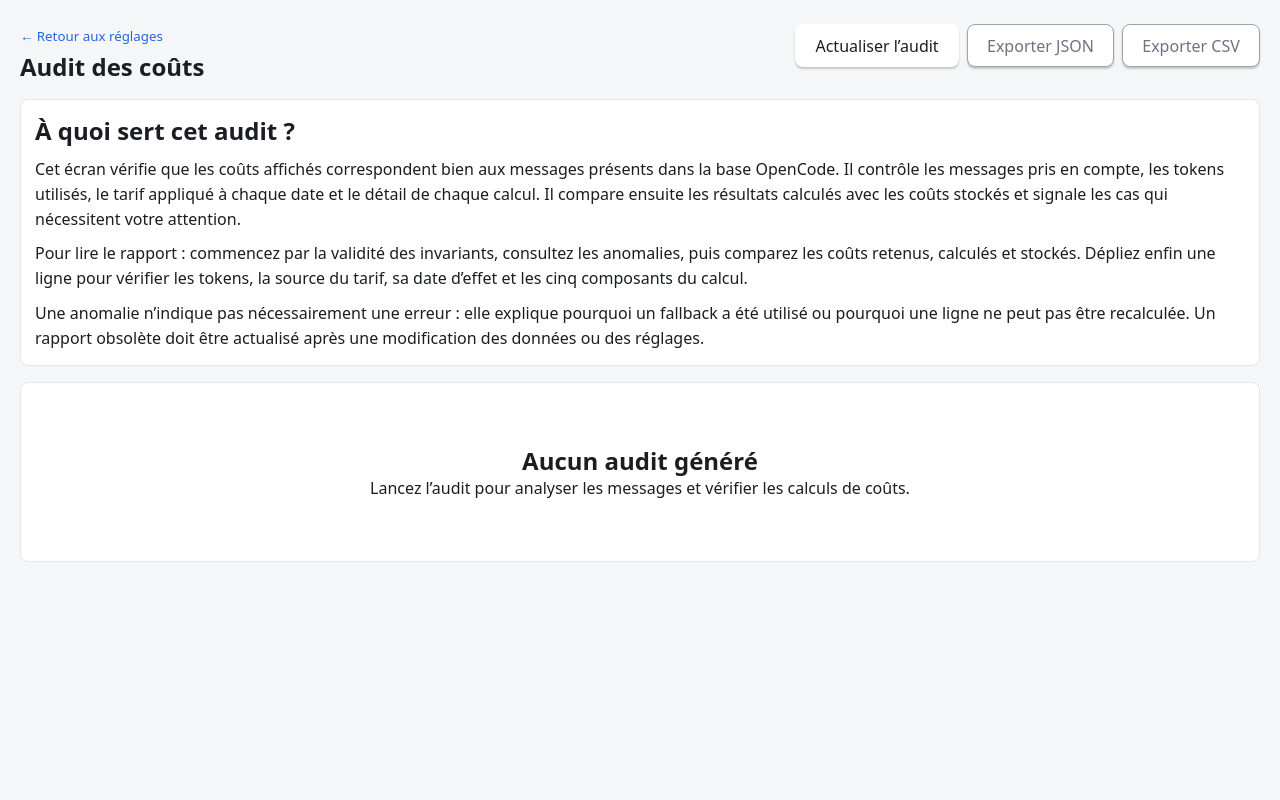
Test: AuditView › shows an invariant failure as an alert state
This screenshot has width=1280, height=800.
Click the button "Actualiser l’audit" at (877, 46), box [795,24,959,67]
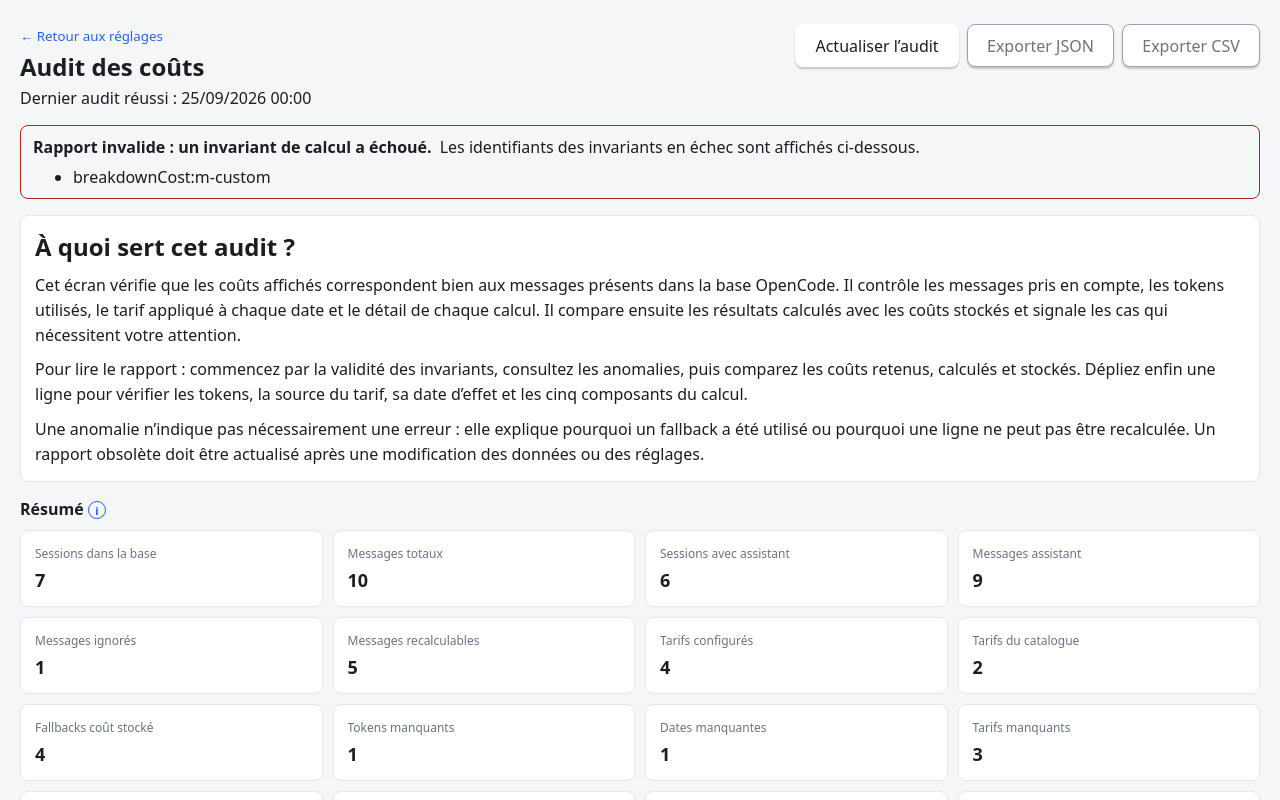
Expected: the button "Exporter JSON" is disabled, [967,24,1114,67]
Now the message shows "invalide", box [33,136,432,158]
Now the text "breakdownCost:m-custom" is shown, box [73,166,271,188]
